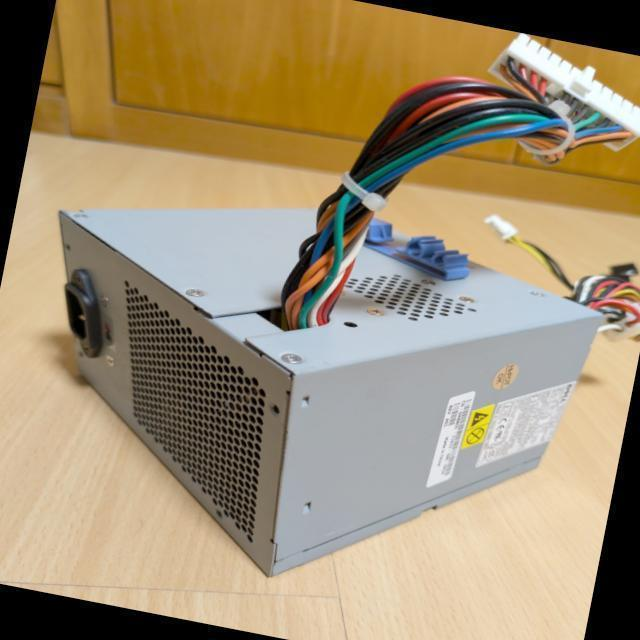PSU: (0, 156, 615, 632)
